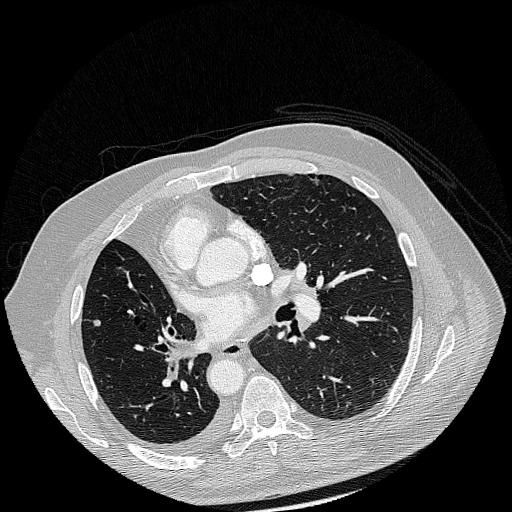nodule: (93, 316, 106, 329)
